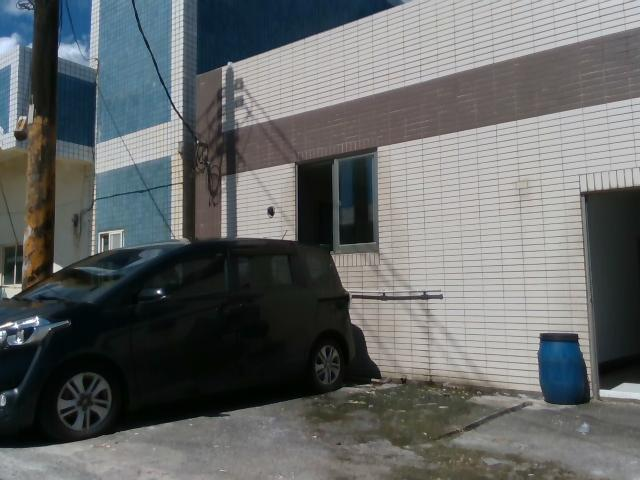pollute: (533, 330, 596, 409)
